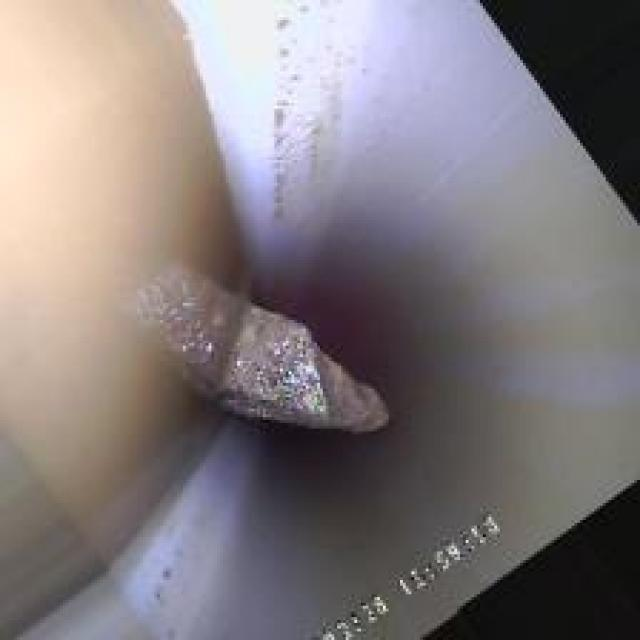stone: (111, 254, 406, 443)
